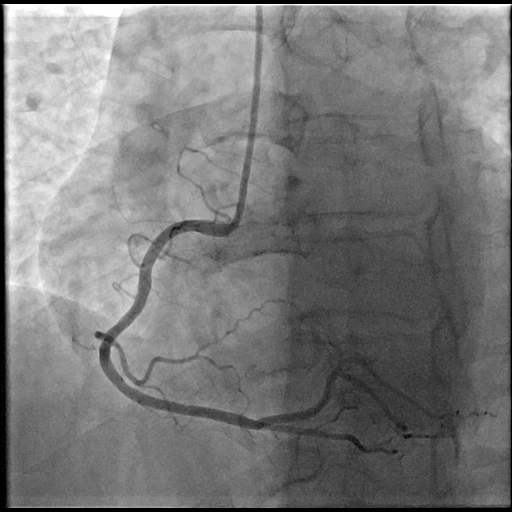RCA: (96, 220, 386, 453)
catherter: (229, 6, 263, 231)
